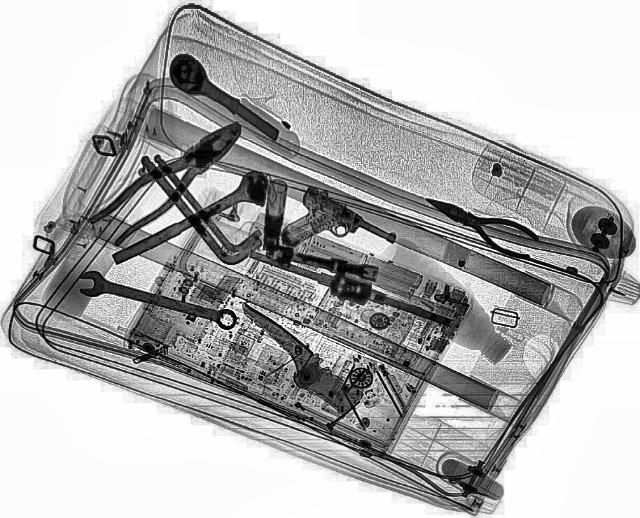Gun: (262, 182, 406, 282)
Pliers: (80, 110, 260, 246), (413, 184, 547, 262)
Wrench: (72, 267, 242, 336)
